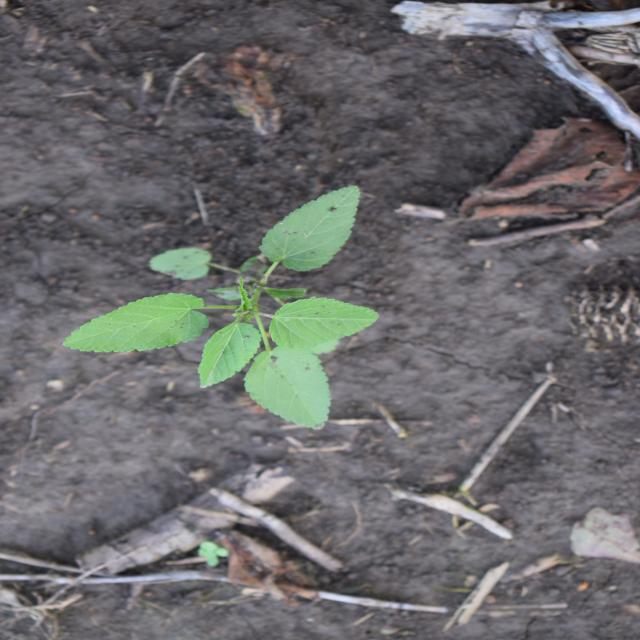PricklySida: (60, 184, 381, 431)
